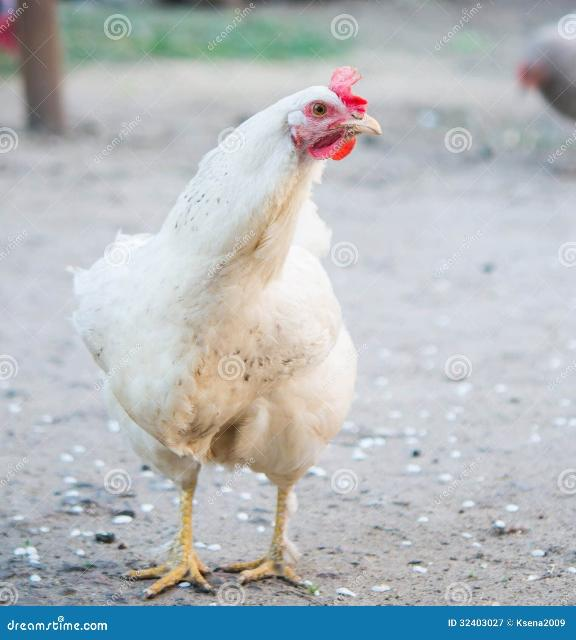Chicken: (69, 65, 385, 598)
